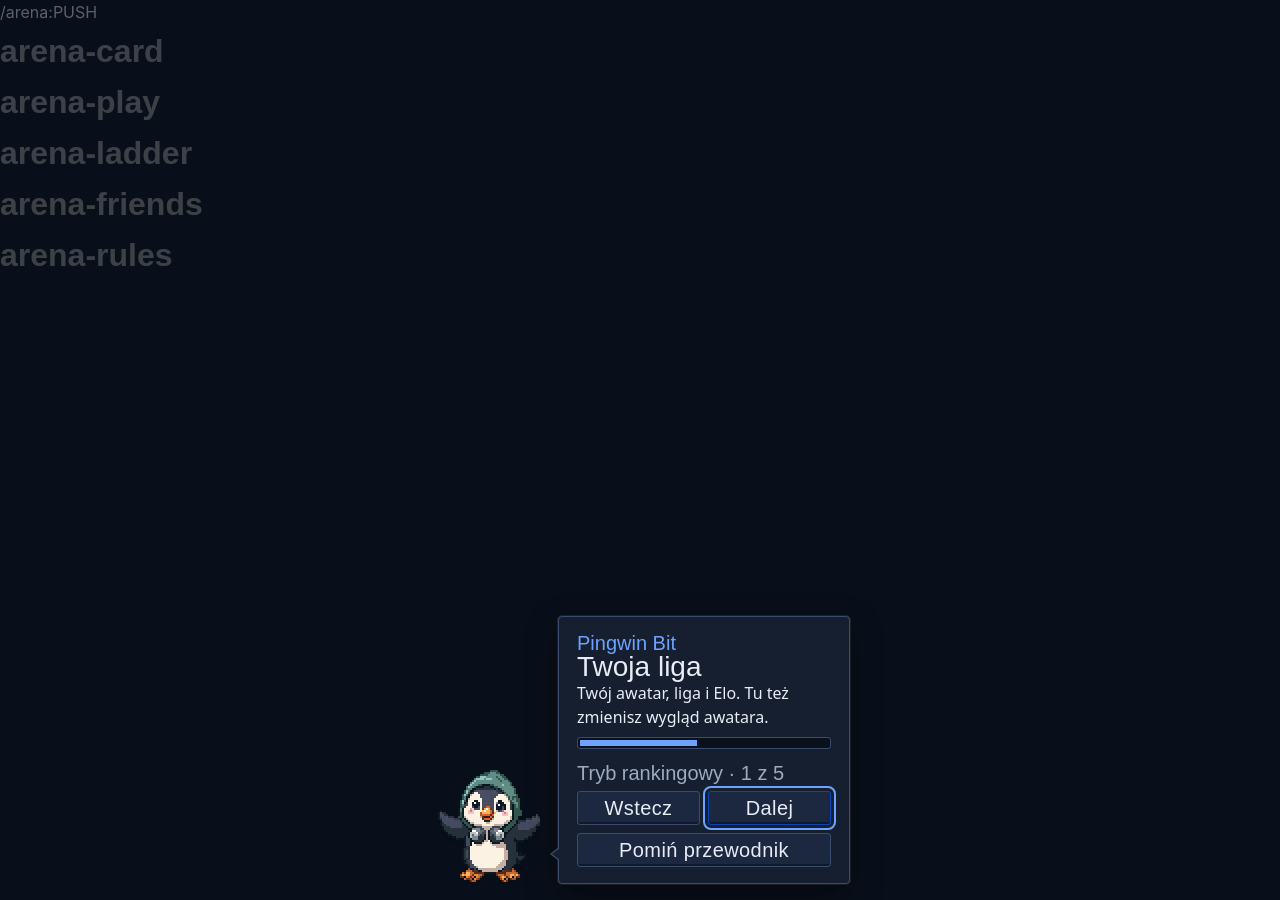
Test: guided tour › can be skipped at any step, and a failed save keeps it open for a retry
The width and height of the screenshot is (1280, 900).
Expected: the heading "Twoja liga" is shown, [577,651,702,682]
What coordinates should you click on to do the following:
click the button "Pomiń przewodnik"
I would click on:
 (704, 850)
Its box is [577,833,831,867].
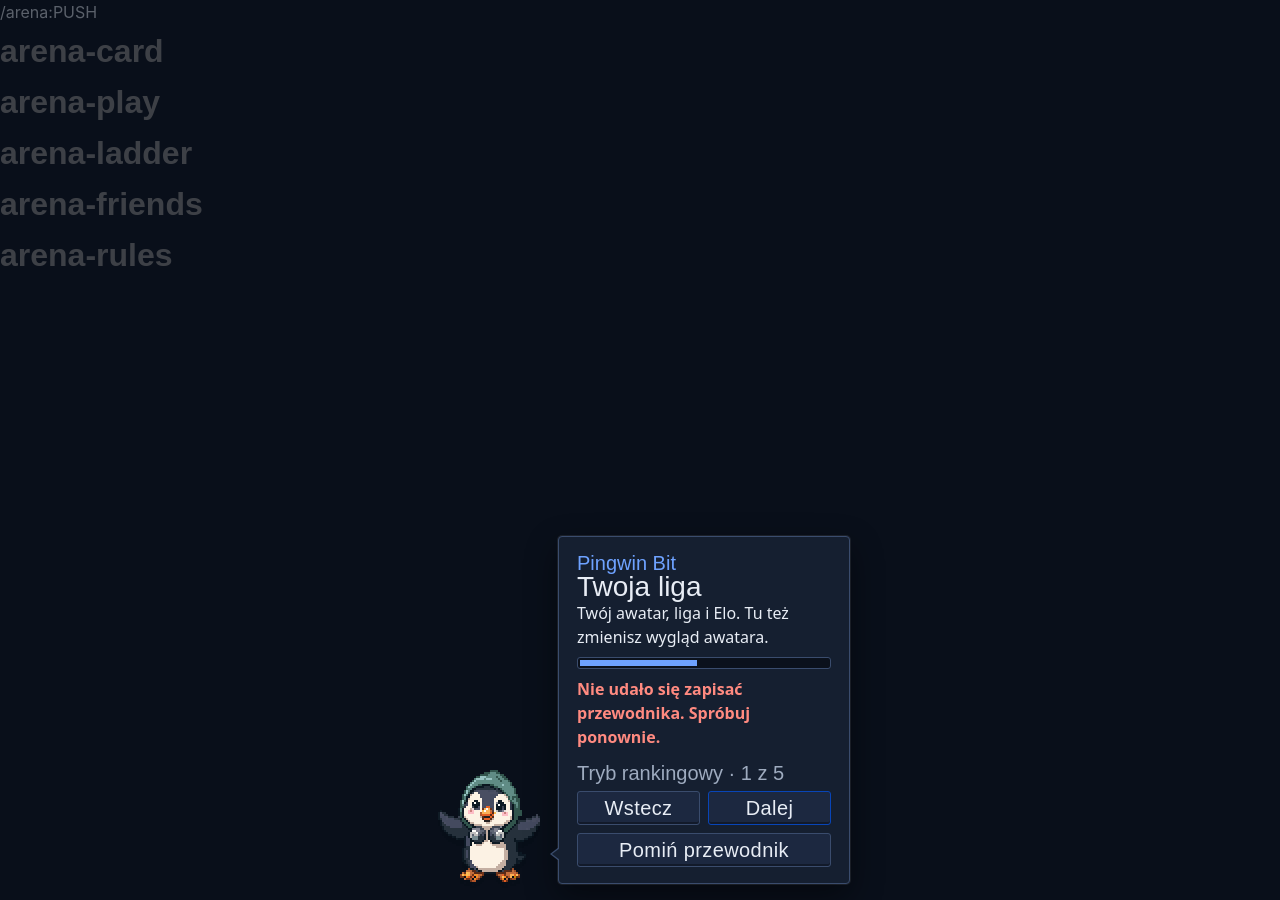
Expected: the dialog is shown, [430,536,850,884]
Now the message shows "Nie udało się zapisać przewodnika.", box [577,678,750,748]
What coordinates should you click on to do the following:
click the button "Pomiń przewodnik"
I would click on:
 (704, 850)
Its box is [577,833,831,867].
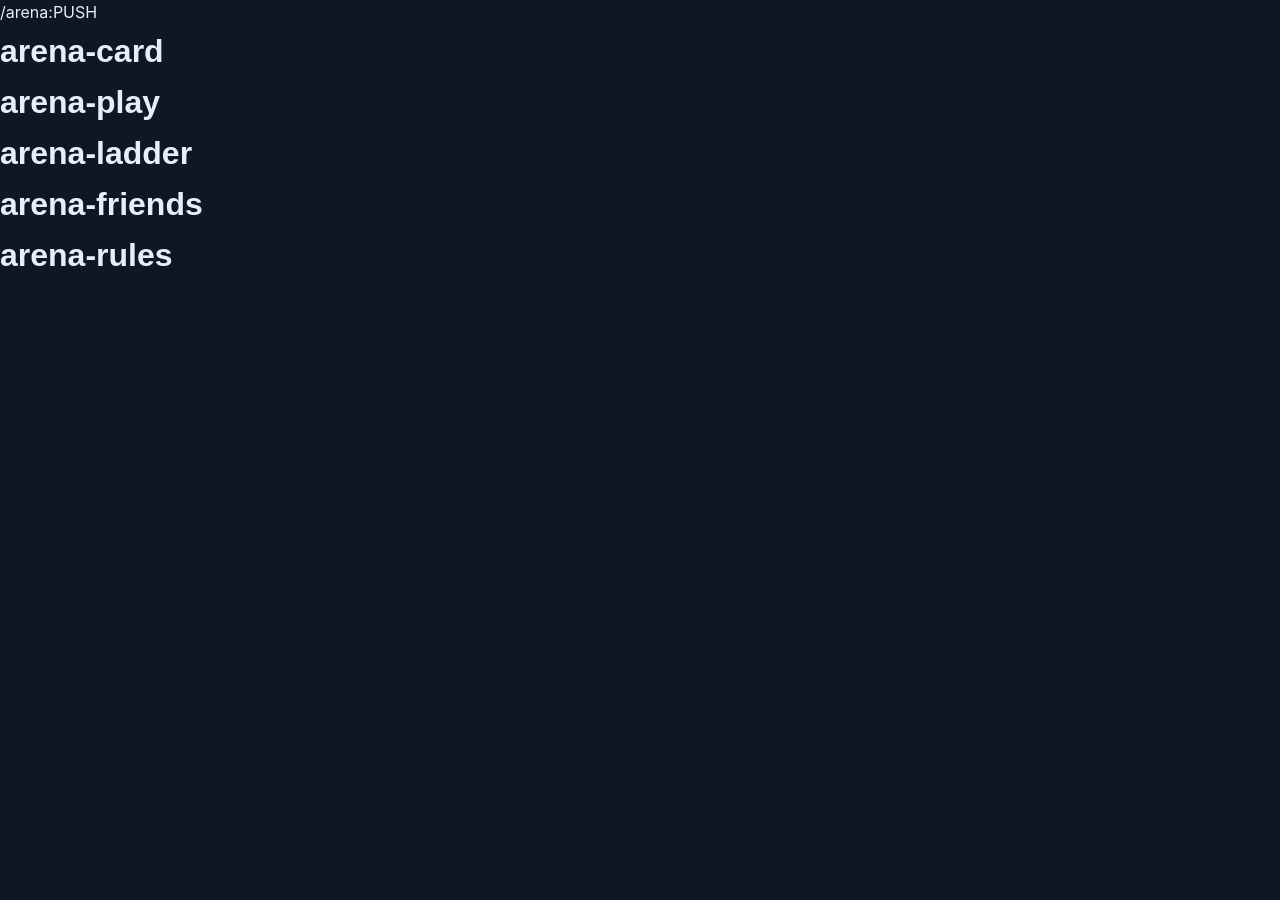
Now the dialog is gone
